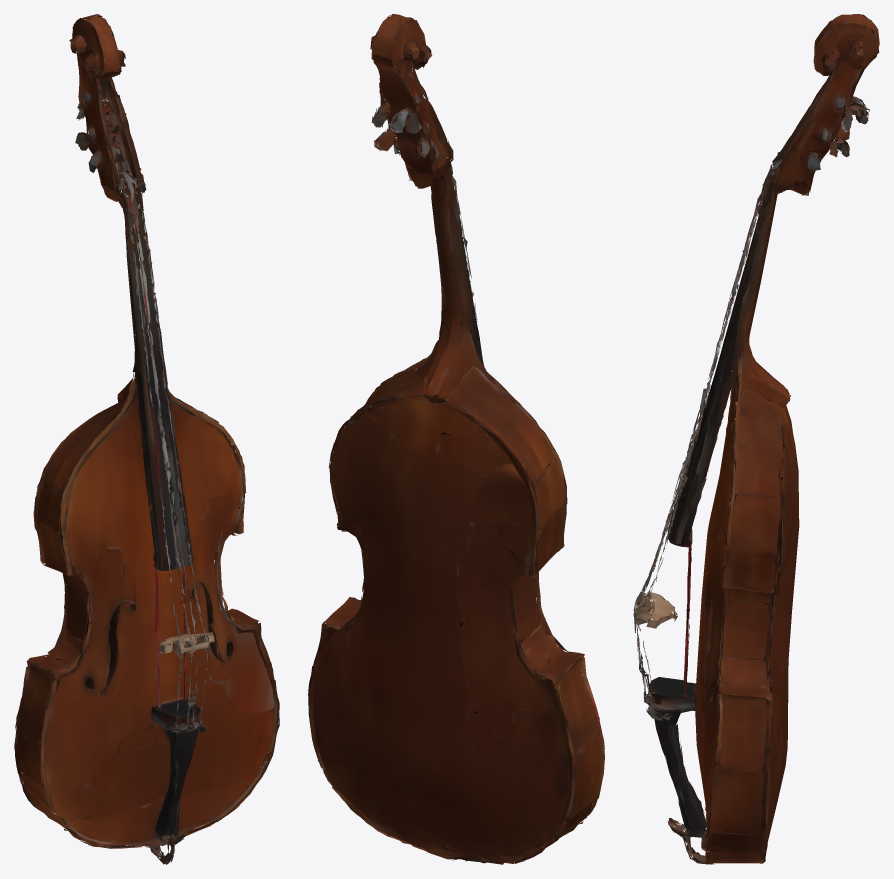
Rendered from bass.glb.
3 renders of one model, left to right at view 1: azimuth 30°, elevation 25°; view 2: azimuth 150°, elevation 25°; view 3: azimuth 270°, elevation 25°, orthographic. The views are drawn at different scales.
Visible parts, largest first — view 1: Mesh_0; view 2: Mesh_0; view 3: Mesh_0.
Part boxes in pixels (x1,y1,x2,y2): Mesh_0: (14,14,279,864); Mesh_0: (308,14,604,864); Mesh_0: (633,14,879,864).
Bounding box in the file's own units: 0.6 × 1.9 × 0.5.
Materials: 1 (1 with a texture image).
